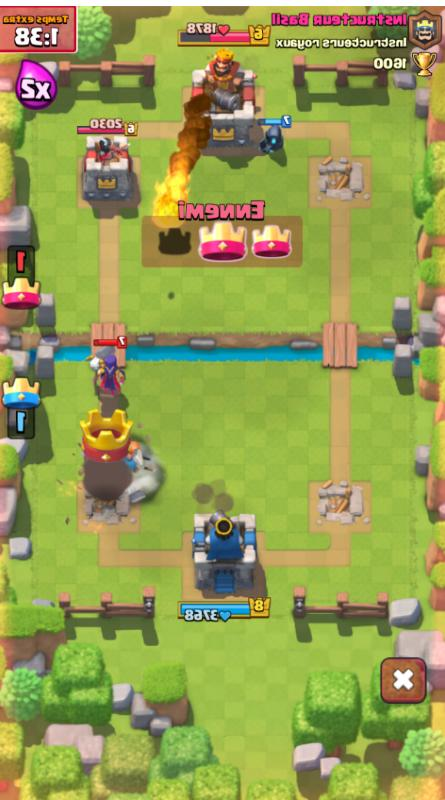mini_PEKKA: (252, 120, 288, 159)
